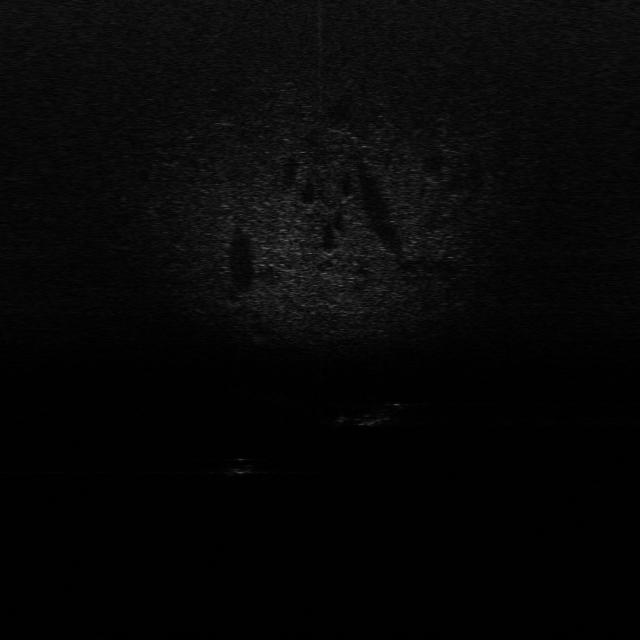ball: (223, 455, 266, 478)
human body: (334, 400, 407, 428)
